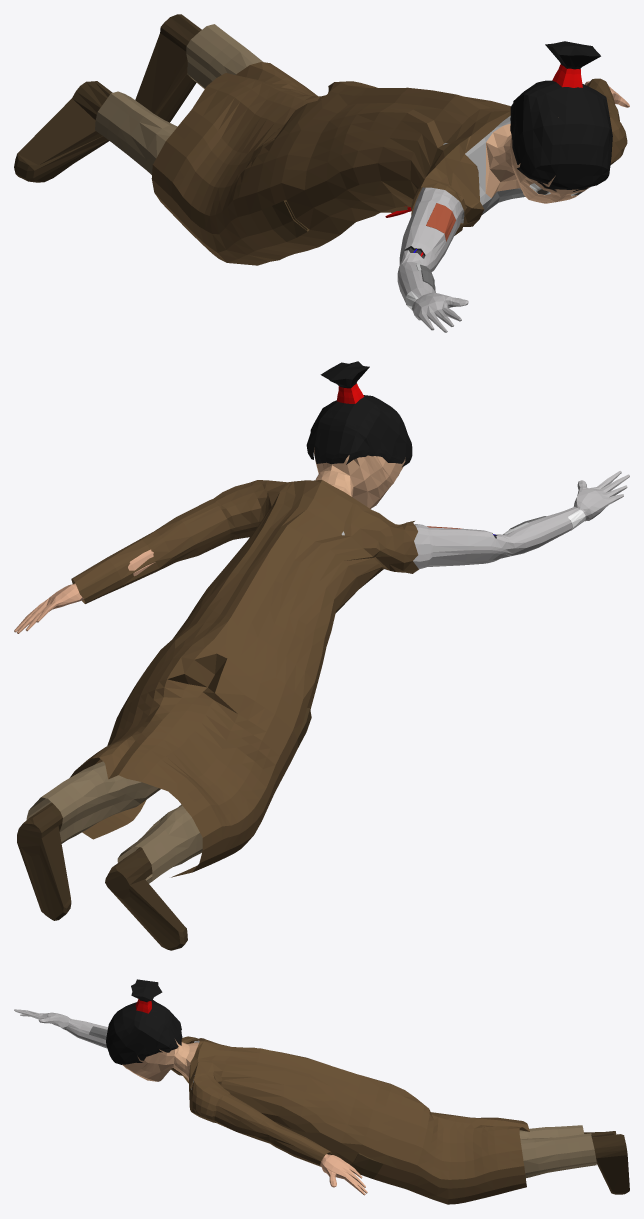
File: One_Die_000047.obj
3 views of the same model, one above another, from view 1: azimuth 30°, elevation 25°; view 2: azimuth 150°, elevation 25°; view 3: azimuth 270°, elevation 25° (orthographic). The views are drawn at different scales.
Visible parts, largest first — view 1: Hair_Cube.004; view 2: Hair_Cube.004; view 3: Hair_Cube.004.
Part boxes in pixels (box(x1,y1,x2,y2)): Hair_Cube.004: box(14, 14, 629, 332); Hair_Cube.004: box(14, 361, 629, 950); Hair_Cube.004: box(14, 979, 629, 1204).
Size of the model in its own units: 2.26 by 1.8 by 4.33.
